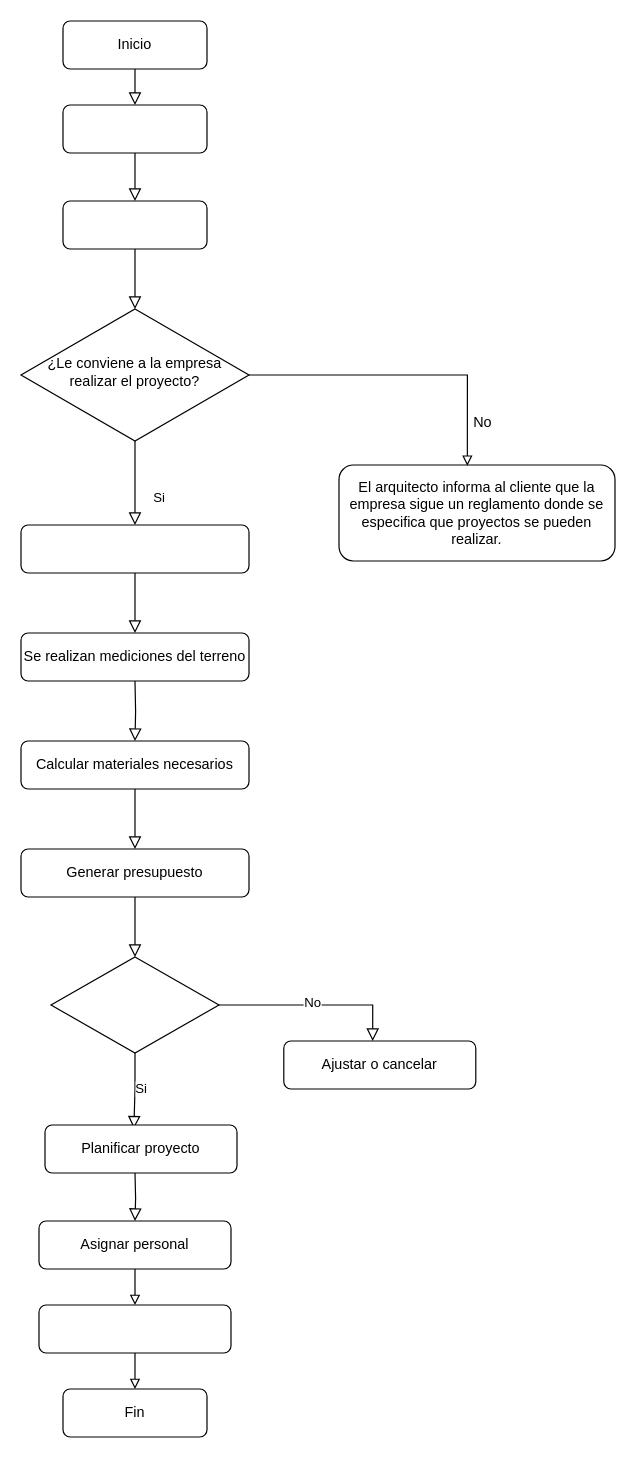
This 636x1458 diagram has some shape labels left out. The centre of each missing label's shape, as x and y in pixels:
Arquitecto recibe solicitud: the point at 134,224
Cliente solicita servicio: the point at 134,128
Ejecutar construcción: the point at 134,1328
Registran los datos del clientes (Excel): the point at 134,548
¿Cliente acepta el presupuesto?: the point at 134,1004
